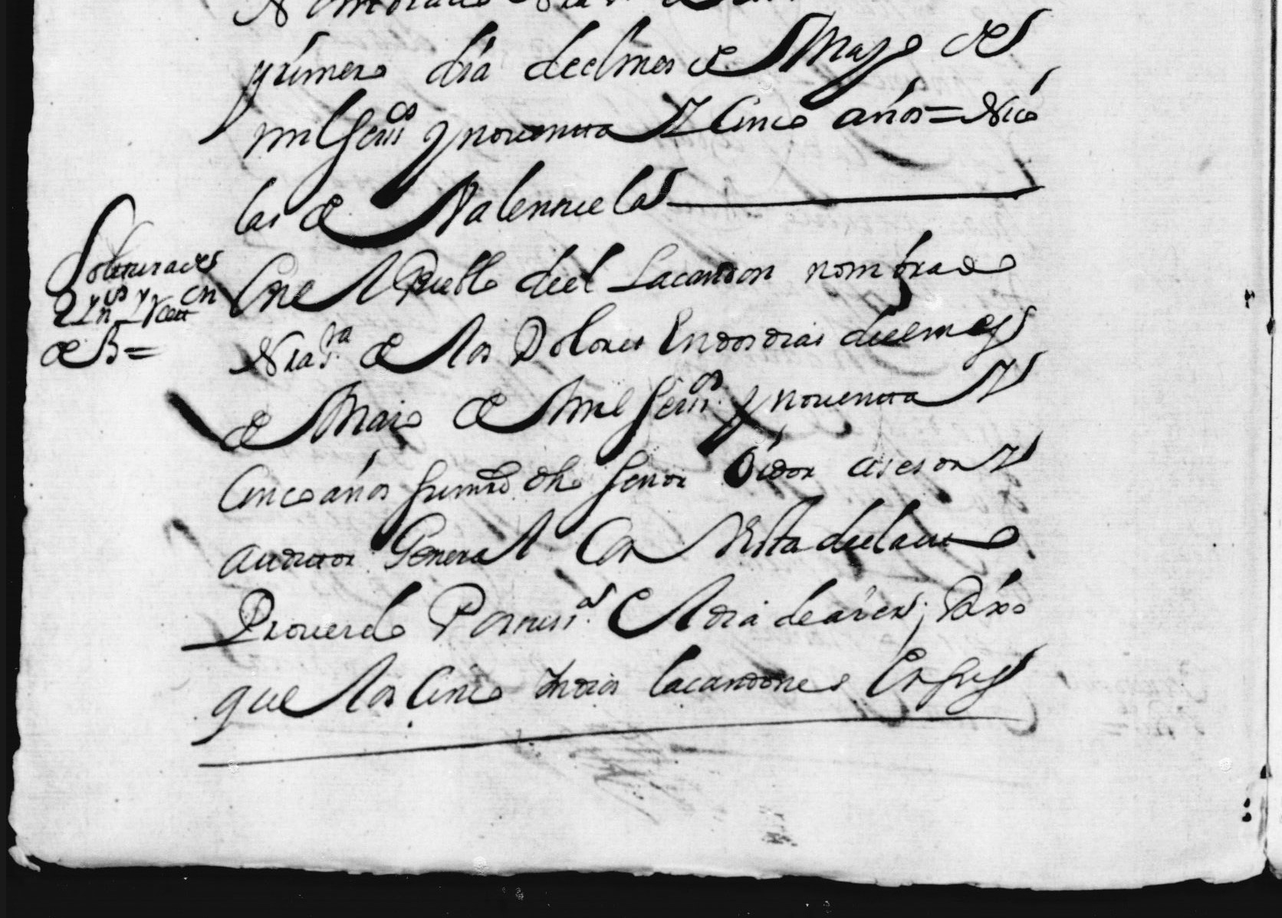lacandon: (649, 644, 850, 697), (607, 243, 774, 292)
